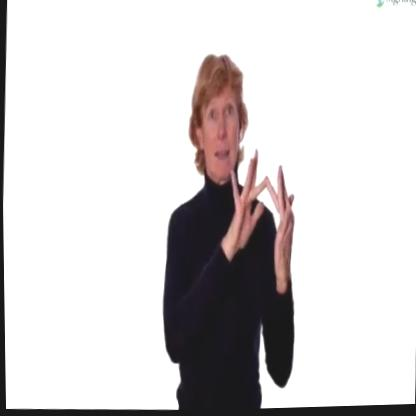Internet: (152, 45, 304, 412)
